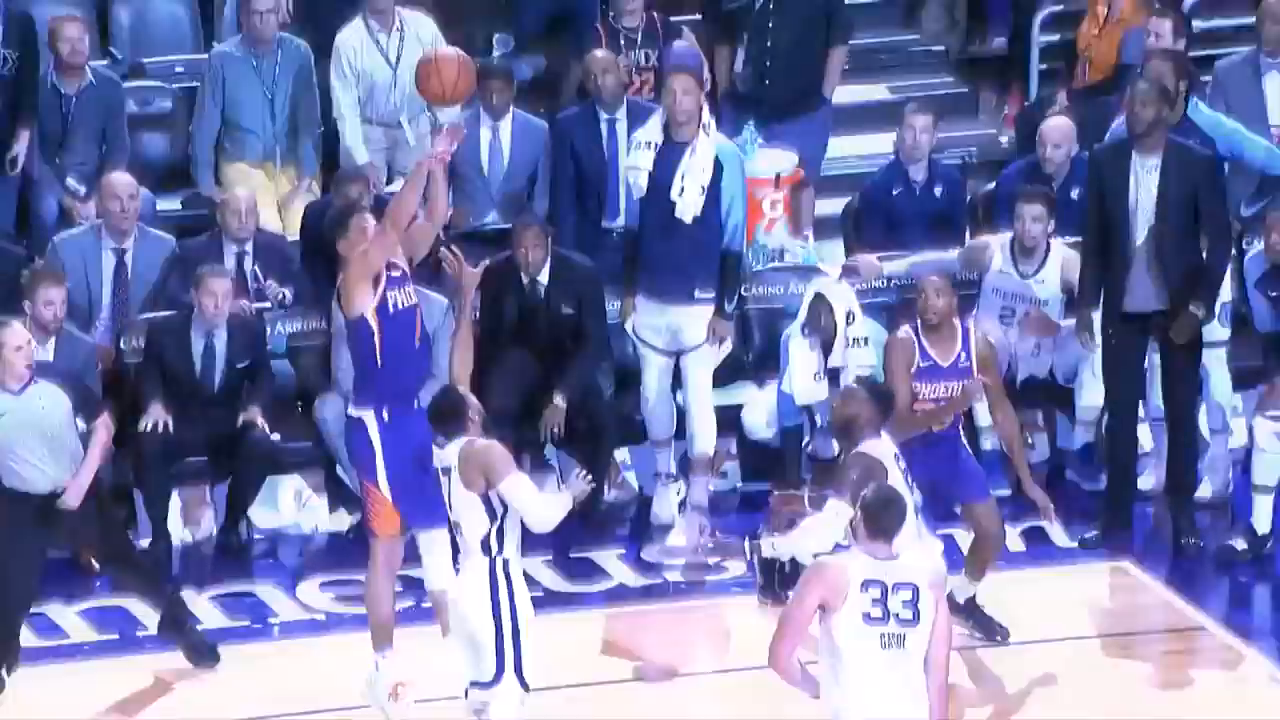ball: (413, 40, 480, 108)
